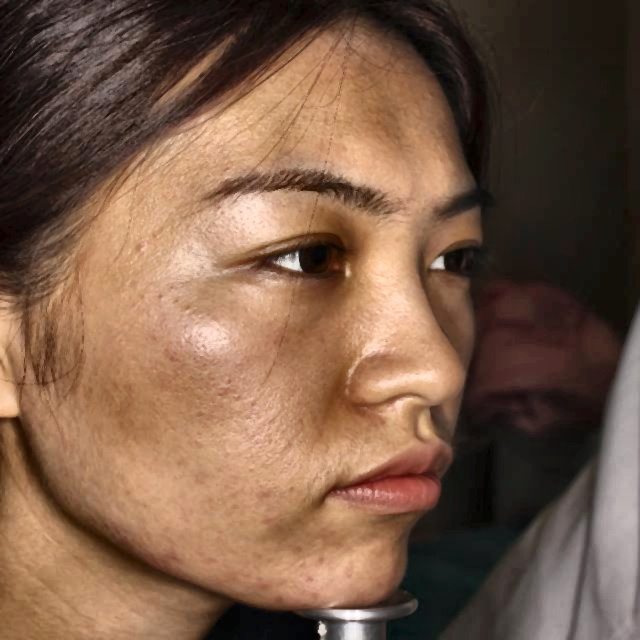comedone: (142, 543, 194, 569), (249, 574, 284, 607)
